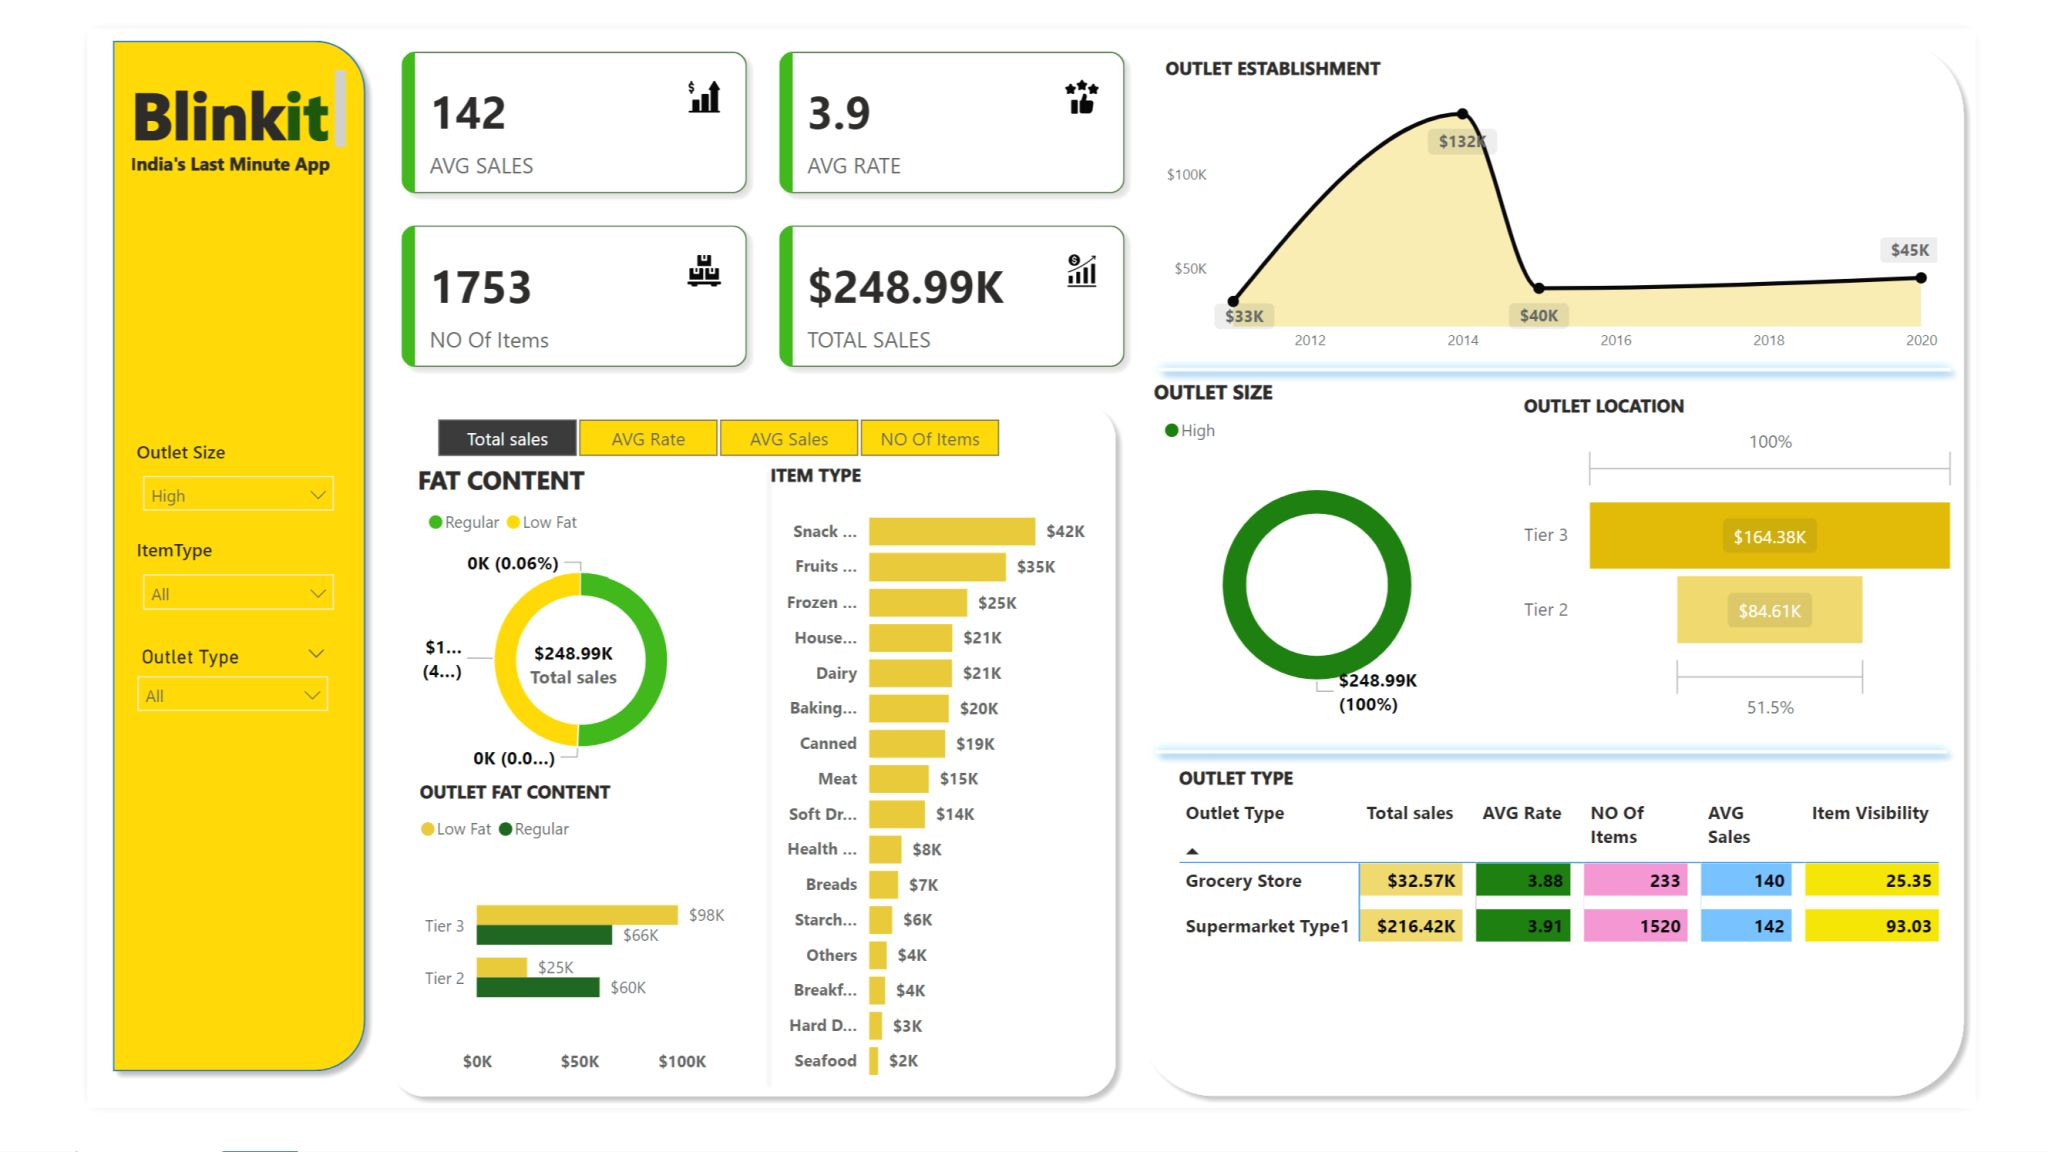

The dashboard page shown, as its layout file describes it:
{"tool":"powerbi","page":{"name":"Page 1","canvas":[1400,800],"ordinal":0},"visuals":[{"type":"shape","box":[10.6,0,205,781.8],"z":0},{"type":"textbox","box":[27.8,25.1,169.3,70.1],"z":1000},{"type":"textbox","box":[26.5,86,170.6,37],"z":2000},{"type":"cardVisual","fields":{"Data":["BlinkIT Grocery Data.AVG Sales","BlinkIT Grocery Data.AVG Rate","BlinkIT Grocery Data.NO Of Items","BlinkIT Grocery Data.Total sales"]},"box":[215.6,0,570.1,269.8],"z":3000},{"type":"shape","box":[215.6,269.8,555.6,530.4],"z":4000},{"type":"slicer","fields":{"Values":["METRICS.METRICS"]},"box":[234.1,283.1,465.6,41],"z":5000},{"type":"donutChart","title":"FAT CONTENT","fields":{"Y":["BlinkIT Grocery Data.Total sales","BlinkIT Grocery Data.AVG Sales"],"Category":["BlinkIT Grocery Data.Item Fat Content"]},"box":[239.4,321.4,251.3,239.4],"z":6000},{"type":"cardVisual","fields":{"Data":["BlinkIT Grocery Data.Total sales"]},"box":[302.9,435.2,115.1,63.5],"z":7000},{"type":"clusteredBarChart","title":"OUTLET FAT CONTENT","fields":{"Y":["BlinkIT Grocery Data.Total sales"],"Series":["BlinkIT Grocery Data.Item Fat Content"],"Category":["BlinkIT Grocery Data.Outlet Location Type"]},"box":[242.1,555.6,259.3,227.5],"z":8000},{"type":"shape","box":[480.2,314.8,43.7,476.2],"z":9000},{"type":"barChart","title":"ITEM TYPE","fields":{"Y":["BlinkIT Grocery Data.Total sales"],"Category":["BlinkIT Grocery Data.Item Type"]},"box":[501.3,321.4,259.3,469.6],"z":10000},{"type":"shape","box":[771.2,0,628.3,800.3],"z":11000},{"type":"lineChart","title":"OUTLET ESTABLISHMENT","fields":{"Y":["BlinkIT Grocery Data.Total sales"],"Category":["BlinkIT Grocery Data.Outlet Establishment Year"]},"box":[795,19.8,582,228.8],"z":12000},{"type":"shape","box":[785.7,235.5,604.5,34.4],"z":13000},{"type":"donutChart","title":"OUTLET SIZE","fields":{"Y":["BlinkIT Grocery Data.Total sales"],"Category":["BlinkIT Grocery Data.Outlet Size"]},"box":[785.7,259.3,251.3,259.3],"z":14000},{"type":"funnel","title":"OUTLET LOCATION","fields":{"Y":["BlinkIT Grocery Data.Total sales"],"Category":["BlinkIT Grocery Data.Outlet Location Type"]},"box":[1059.5,269.8,330.7,248.7],"z":15000},{"type":"shape","box":[783.1,518.5,604.5,34.4],"z":16000},{"type":"pivotTable","title":"OUTLET TYPE","fields":{"Rows":["BlinkIT Grocery Data.Outlet Type"],"Values":["BlinkIT Grocery Data.Total sales","BlinkIT Grocery Data.AVG Rate","BlinkIT Grocery Data.NO Of Items","BlinkIT Grocery Data.AVG Sales","Sum(BlinkIT Grocery Data.Item Visibility)"]},"box":[803.8,546.2,573.8,220],"z":17000},{"type":"slicer","title":"Outlet Size","fields":{"Values":["BlinkIT Grocery Data.Outlet Size"]},"box":[31.7,304.2,161.4,67.5],"z":18000},{"type":"slicer","title":"ItemType","fields":{"Values":["BlinkIT Grocery Data.Item Type"]},"box":[31.7,377,161.4,67.5],"z":19000},{"type":"slicer","title":"Outlet Size","fields":{"Values":["BlinkIT Grocery Data.Outlet Type"]},"box":[27.8,451.1,161.4,67.5],"z":20000}]}

Visuals, with their boxes in screenshot pixels (x1, y1, x2, y2), scaled from the page's 1400x800 canvas onto the 2048x1152 screenshot:
shape: 16, 0, 315, 1126
textbox: 41, 36, 288, 137
textbox: 39, 124, 288, 177
cardVisual - BlinkIT Grocery Data.AVG Sales x BlinkIT Grocery Data.AVG Rate: 315, 0, 1149, 389
shape: 315, 389, 1128, 1151
slicer - METRICS.METRICS: 342, 408, 1024, 467
"FAT CONTENT" donutChart: 350, 463, 718, 808
cardVisual - BlinkIT Grocery Data.Total sales: 443, 627, 611, 718
"OUTLET FAT CONTENT" clusteredBarChart: 354, 800, 733, 1128
shape: 702, 453, 766, 1139
"ITEM TYPE" barChart: 733, 463, 1113, 1139
shape: 1128, 0, 2047, 1151
"OUTLET ESTABLISHMENT" lineChart: 1163, 29, 2014, 358
shape: 1149, 339, 2034, 389
"OUTLET SIZE" donutChart: 1149, 373, 1517, 747
"OUTLET LOCATION" funnel: 1550, 389, 2034, 747
shape: 1146, 747, 2030, 796
"OUTLET TYPE" pivotTable: 1176, 787, 2015, 1103
"Outlet Size" slicer: 46, 438, 282, 535
"ItemType" slicer: 46, 543, 282, 640
"Outlet Size" slicer: 41, 650, 277, 747
